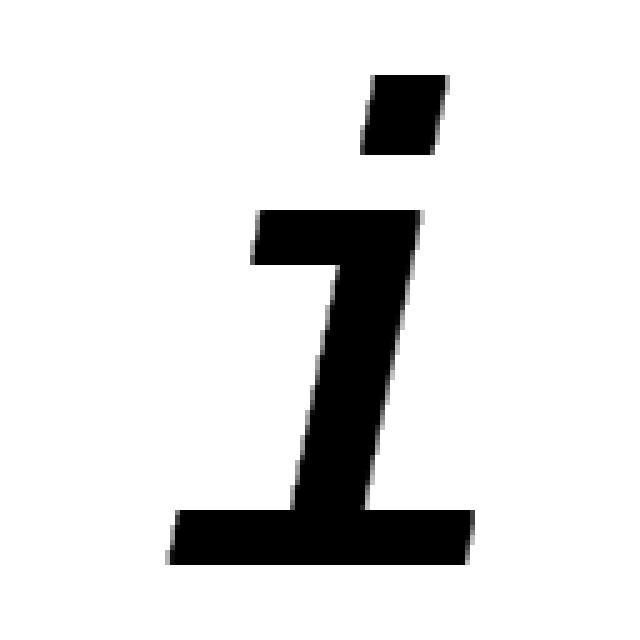I: (160, 68, 458, 560)
